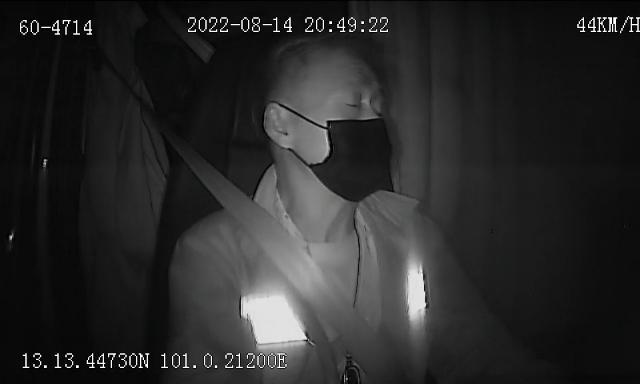Seatbelt: (158, 118, 408, 384)
